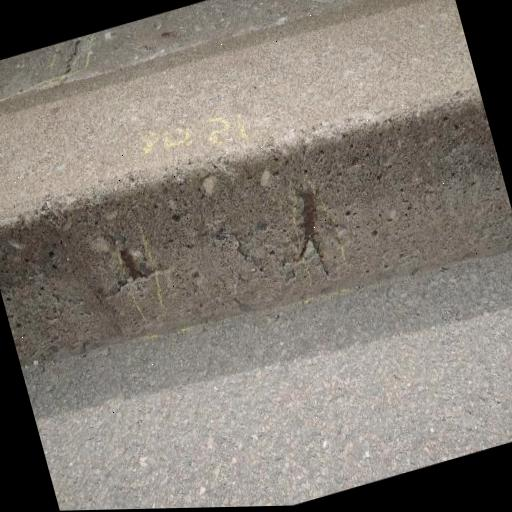exposed_rebar: (297, 186, 329, 274), (120, 247, 146, 278)
